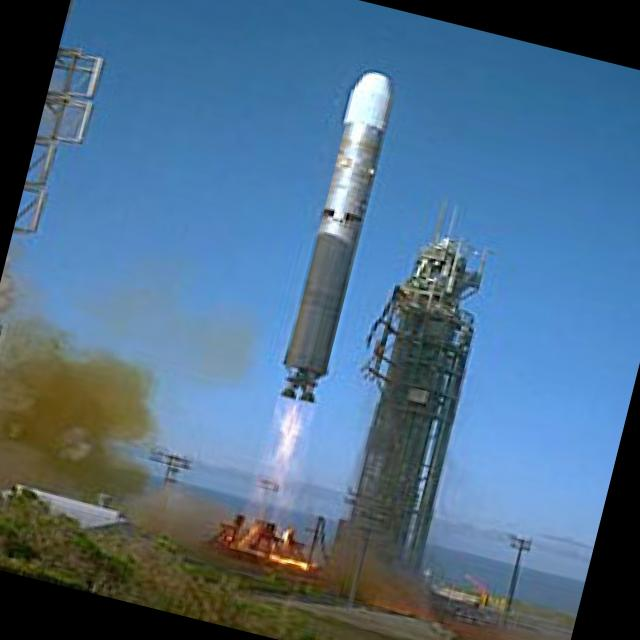rocket: (241, 57, 410, 485)
